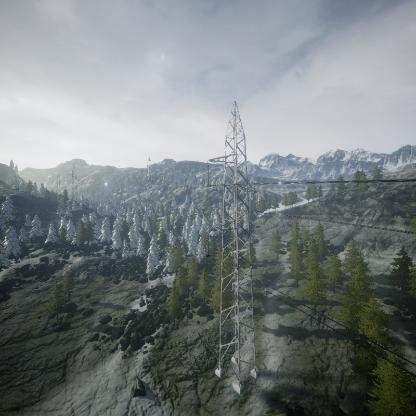tower: (204, 99, 262, 396)
